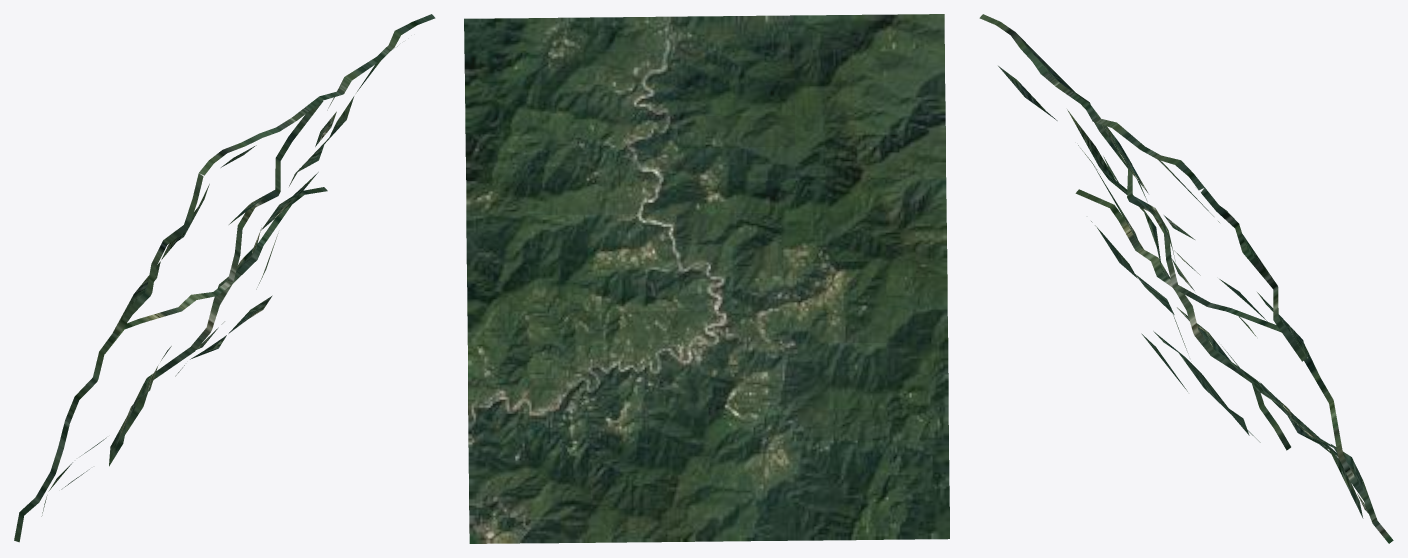
3 views of the same model, side by side, from view 1: azimuth 30°, elevation 25°; view 2: azimuth 150°, elevation 25°; view 3: azimuth 270°, elevation 25° (orthographic). The views are drawn at different scales.
Bounding box in the file's own units: 20043 × 18009 × 16452.
1 material, 1 textured.
